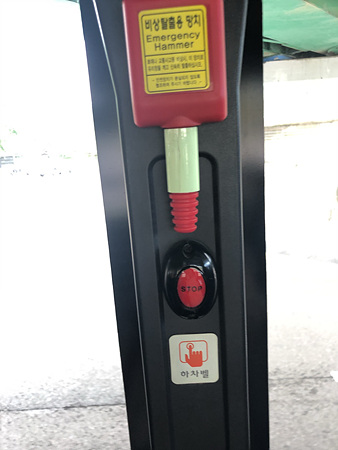bell: (161, 240, 219, 320)
